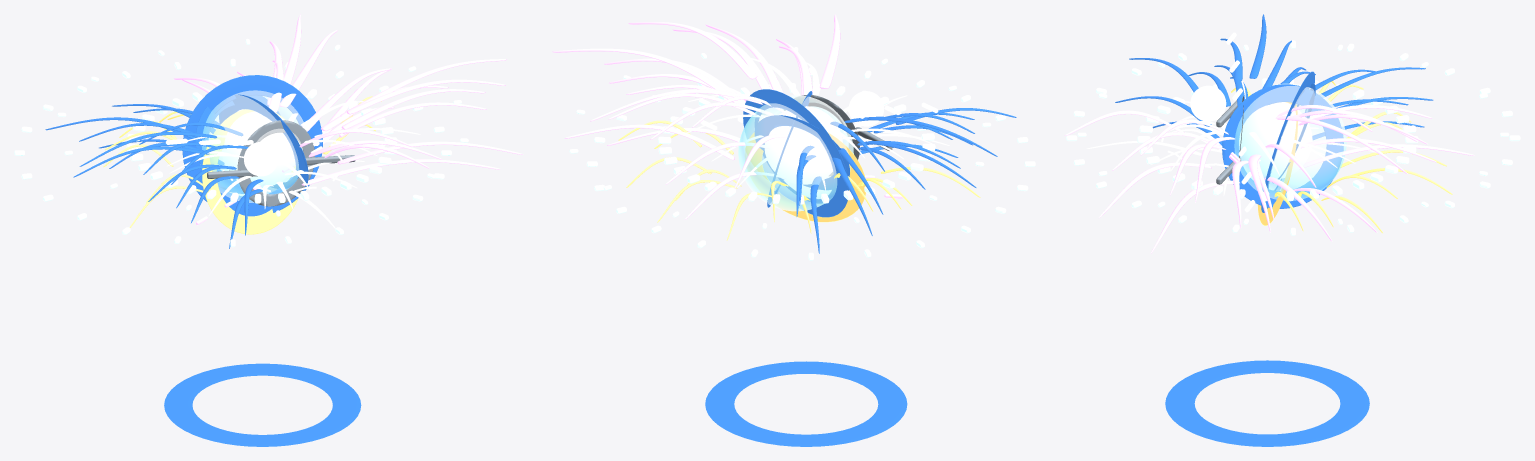
3 views of the same model, side by side, from view 1: azimuth 30°, elevation 25°; view 2: azimuth 150°, elevation 25°; view 3: azimuth 270°, elevation 25° (orthographic). The views are drawn at different scales.
Parts seen in each view (by area): view 1: shockwave_ring_floor_reflection, energy_core_particle_emitter, orbital_ring_primary_blue, shockwave_ring_mid_air_amber, core_inner_hot_white, particle_core_containment_brushed_metal_ring, orbital_ring_vertical_blue, core_micro_hot_white_front, orbital_ring_diagonal_violet, energy_trail_ribbon_violet_16, energy_trail_ribbon_violet_14, energy_trail_ribbon_violet_17 (+6 smaller); view 2: energy_core_particle_emitter, shockwave_ring_floor_reflection, orbital_ring_primary_blue, core_inner_hot_white, shockwave_ring_mid_air_amber, orbital_ring_diagonal_violet, core_micro_hot_white_front, energy_trail_ribbon_violet_11, energy_trail_ribbon_violet_14, particle_core_containment_brushed_metal_ring, energy_trail_ribbon_violet_08, energy_trail_ribbon_violet_07 (+5 smaller); view 3: energy_core_particle_emitter, shockwave_ring_floor_reflection, orbital_ring_vertical_blue, core_inner_hot_white, core_micro_hot_white_front, orbital_ring_primary_blue, energy_trail_ribbon_violet_07, energy_trail_ribbon_violet_02, shockwave_ring_mid_air_amber, energy_trail_ribbon_violet_16, energy_trail_ribbon_violet_17, energy_trail_ribbon_violet_06 (+2 smaller).
Boxes of the visible parts, left/top/right/bottom form: shockwave_ring_floor_reflection: left=164, top=363, right=361, bottom=446; energy_core_particle_emitter: left=200, top=90, right=306, bottom=202; orbital_ring_primary_blue: left=182, top=75, right=322, bottom=216; shockwave_ring_mid_air_amber: left=202, top=109, right=299, bottom=234; core_inner_hot_white: left=222, top=111, right=295, bottom=187; particle_core_containment_brushed_metal_ring: left=237, top=120, right=314, bottom=206; orbital_ring_vertical_blue: left=219, top=94, right=308, bottom=193; core_micro_hot_white_front: left=243, top=141, right=278, bottom=176; orbital_ring_diagonal_violet: left=195, top=95, right=279, bottom=193; energy_trail_ribbon_violet_16: left=301, top=159, right=500, bottom=185; energy_trail_ribbon_violet_14: left=346, top=79, right=505, bottom=114; energy_trail_ribbon_violet_17: left=337, top=141, right=523, bottom=164; energy_core_particle_emitter: left=738, top=95, right=853, bottom=211; shockwave_ring_floor_reflection: left=705, top=361, right=907, bottom=446; orbital_ring_primary_blue: left=743, top=89, right=848, bottom=217; core_inner_hot_white: left=765, top=106, right=842, bottom=184; shockwave_ring_mid_air_amber: left=745, top=132, right=865, bottom=222; orbital_ring_diagonal_violet: left=755, top=115, right=849, bottom=189; core_micro_hot_white_front: left=848, top=91, right=884, bottom=126; energy_trail_ribbon_violet_11: left=552, top=48, right=729, bottom=92; energy_trail_ribbon_violet_14: left=628, top=22, right=757, bottom=79; particle_core_containment_brushed_metal_ring: left=784, top=95, right=859, bottom=175; energy_trail_ribbon_violet_08: left=564, top=124, right=734, bottom=159; energy_trail_ribbon_violet_07: left=590, top=89, right=762, bottom=121; energy_core_particle_emitter: left=1234, top=83, right=1346, bottom=200; shockwave_ring_floor_reflection: left=1165, top=360, right=1369, bottom=446; orbital_ring_vertical_blue: left=1222, top=84, right=1343, bottom=208; core_inner_hot_white: left=1239, top=102, right=1312, bottom=178; core_micro_hot_white_front: left=1190, top=85, right=1226, bottom=121; orbital_ring_primary_blue: left=1261, top=71, right=1314, bottom=212; energy_trail_ribbon_violet_07: left=1275, top=116, right=1407, bottom=174; energy_trail_ribbon_violet_02: left=1299, top=144, right=1474, bottom=169; shockwave_ring_mid_air_amber: left=1257, top=102, right=1297, bottom=225; energy_trail_ribbon_violet_16: left=1150, top=180, right=1239, bottom=253; energy_trail_ribbon_violet_17: left=1099, top=162, right=1211, bottom=217; energy_trail_ribbon_violet_06: left=1298, top=114, right=1427, bottom=144.
Size of what is drawn, in the model's own units: 2.11 by 1.41 by 1.77.
